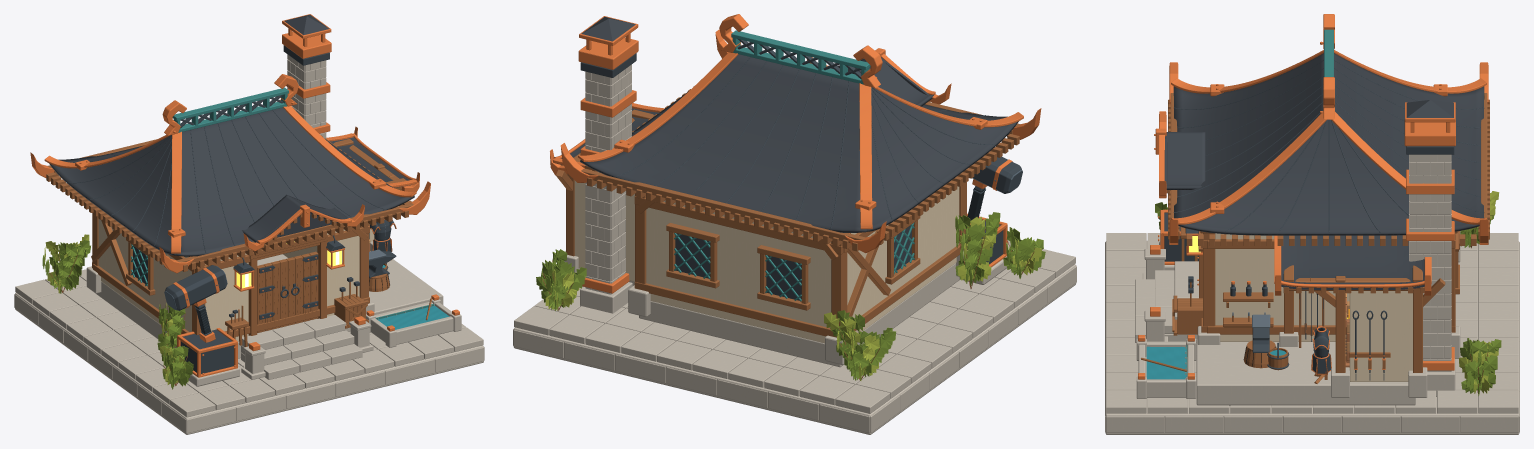
File: forge.glb
3 views of the same model, side by side, from view 1: azimuth 30°, elevation 25°; view 2: azimuth 150°, elevation 25°; view 3: azimuth 270°, elevation 25° (orthographic). The views are drawn at different scales.
Parts seen in each view (by area): view 1: RFbatch_4.027, RFbatch_0.027, RFbatch_2.027, RFbatch_63.027, RFbatch_21.027, RFbatch_3.027, RFbatch_6.027, RFbatch_76.027, RFbatch_32.027, RFbatch_16.027, RFbatch_69.027, RFbatch_25.027 (+23 smaller); view 2: RFbatch_4.027, RFbatch_0.027, RFbatch_2.027, RFbatch_3.027, RFbatch_65.027, RFbatch_1.027, RFbatch_76.027, RFbatch_6.027, RFbatch_21.027, RFbatch_9.027, RFbatch_66.027, RFbatch_77.027 (+13 smaller); view 3: RFbatch_4.027, RFbatch_0.027, RFbatch_16.027, RFbatch_65.027, RFbatch_21.027, RFbatch_2.027, RFbatch_19.027, RFbatch_17.027, RFbatch_63.027, RFbatch_18.027, RFbatch_5.027, RFbatch_6.027 (+21 smaller).
Part boxes in pixels (bbox=[...]): RFbatch_4.027: bbox=[49, 107, 414, 256]; RFbatch_0.027: bbox=[14, 269, 484, 434]; RFbatch_2.027: bbox=[98, 219, 359, 341]; RFbatch_63.027: bbox=[241, 315, 373, 379]; RFbatch_21.027: bbox=[30, 99, 430, 273]; RFbatch_3.027: bbox=[91, 212, 369, 337]; RFbatch_6.027: bbox=[46, 135, 413, 271]; RFbatch_76.027: bbox=[42, 240, 193, 389]; RFbatch_32.027: bbox=[165, 265, 233, 373]; RFbatch_16.027: bbox=[366, 241, 443, 314]; RFbatch_69.027: bbox=[366, 299, 461, 347]; RFbatch_25.027: bbox=[242, 194, 348, 242]; RFbatch_4.027: bbox=[580, 54, 1018, 232]; RFbatch_0.027: bbox=[513, 240, 1076, 434]; RFbatch_2.027: bbox=[646, 186, 959, 343]; RFbatch_3.027: bbox=[634, 182, 966, 337]; RFbatch_65.027: bbox=[580, 64, 632, 313]; RFbatch_1.027: bbox=[628, 250, 967, 367]; RFbatch_76.027: bbox=[536, 212, 1045, 380]; RFbatch_6.027: bbox=[581, 86, 1020, 251]; RFbatch_21.027: bbox=[560, 29, 1041, 253]; RFbatch_9.027: bbox=[666, 215, 920, 310]; RFbatch_66.027: bbox=[578, 16, 638, 293]; RFbatch_77.027: bbox=[545, 216, 1041, 380]; RFbatch_4.027: bbox=[1173, 53, 1484, 235]; RFbatch_0.027: bbox=[1105, 233, 1519, 434]; RFbatch_16.027: bbox=[1196, 332, 1427, 405]; RFbatch_65.027: bbox=[1409, 154, 1455, 396]; RFbatch_21.027: bbox=[1169, 50, 1488, 244]; RFbatch_2.027: bbox=[1215, 233, 1349, 341]; RFbatch_19.027: bbox=[1281, 235, 1424, 289]; RFbatch_17.027: bbox=[1349, 291, 1412, 381]; RFbatch_63.027: bbox=[1135, 249, 1198, 342]; RFbatch_18.027: bbox=[1283, 265, 1445, 372]; RFbatch_5.027: bbox=[1173, 60, 1484, 232]; RFbatch_6.027: bbox=[1168, 93, 1489, 245].
Bounding box in the file's own units: 10.23 × 8.29 × 10.03.
Materials: 21 (12 with a texture image).
